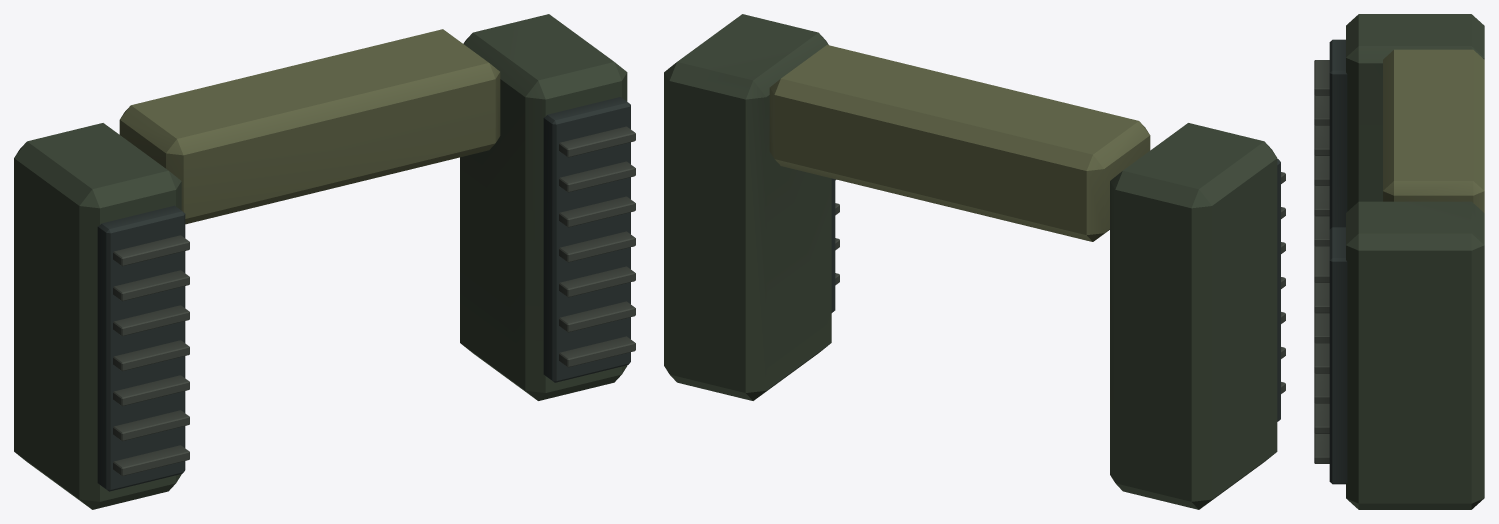
File: service_upgraded.glb
3 views of the same model, side by side, from view 1: azimuth 30°, elevation 25°; view 2: azimuth 150°, elevation 25°; view 3: azimuth 270°, elevation 25° (orthographic). The views are drawn at different scales.
Visible parts, largest first — view 1: Cooling_plenum, High_flow_cooling_tower, High_flow_cooling_tower.001, Tower_fins_well, Tower_fins_well.001, Tower_fins_slat_00.001, Tower_fins_slat_03, Tower_fins_slat_06, Tower_fins_slat_01, Tower_fins_slat_02.001, Tower_fins_slat_04, Tower_fins_slat_05 (+7 smaller); view 2: High_flow_cooling_tower, High_flow_cooling_tower.001, Cooling_plenum, Tower_fins_well; view 3: High_flow_cooling_tower.001, Cooling_plenum, High_flow_cooling_tower, Tower_fins_well.001, Tower_fins_well, Tower_fins_slat_06, Tower_fins_slat_06.001, Tower_fins_slat_01, Tower_fins_slat_02, Tower_fins_slat_04.001, Tower_fins_slat_05.001, Tower_fins_slat_01.001 (+6 smaller).
Part boxes in pixels (box(x1,y1,x2,y2)): Cooling_plenum: box(119, 29, 500, 224); High_flow_cooling_tower: box(14, 123, 181, 509); High_flow_cooling_tower.001: box(460, 14, 627, 400); Tower_fins_well: box(97, 205, 185, 491); Tower_fins_well.001: box(543, 97, 630, 382); Tower_fins_slat_00.001: box(559, 336, 635, 367); Tower_fins_slat_03: box(113, 340, 189, 371); Tower_fins_slat_06: box(113, 235, 189, 266); Tower_fins_slat_01: box(113, 410, 189, 441); Tower_fins_slat_02.001: box(559, 266, 635, 297); Tower_fins_slat_04: box(113, 305, 189, 336); Tower_fins_slat_05: box(113, 270, 189, 301); High_flow_cooling_tower: box(1110, 123, 1277, 509); High_flow_cooling_tower.001: box(664, 14, 831, 400); Cooling_plenum: box(769, 45, 1150, 241); Tower_fins_well: box(1277, 159, 1280, 421); High_flow_cooling_tower.001: box(1346, 201, 1484, 509); Cooling_plenum: box(1383, 49, 1484, 212); High_flow_cooling_tower: box(1346, 14, 1484, 211); Tower_fins_well.001: box(1329, 227, 1347, 484); Tower_fins_well: box(1329, 39, 1347, 229); Tower_fins_slat_06: box(1314, 60, 1329, 95); Tower_fins_slat_06.001: box(1314, 247, 1329, 282); Tower_fins_slat_01: box(1314, 215, 1329, 246); Tower_fins_slat_02: box(1314, 185, 1329, 216); Tower_fins_slat_04.001: box(1314, 312, 1329, 343); Tower_fins_slat_05.001: box(1314, 282, 1329, 313); Tower_fins_slat_01.001: box(1314, 403, 1329, 433).
Size of the model in its own units: 0.59 by 0.34 by 0.184.
